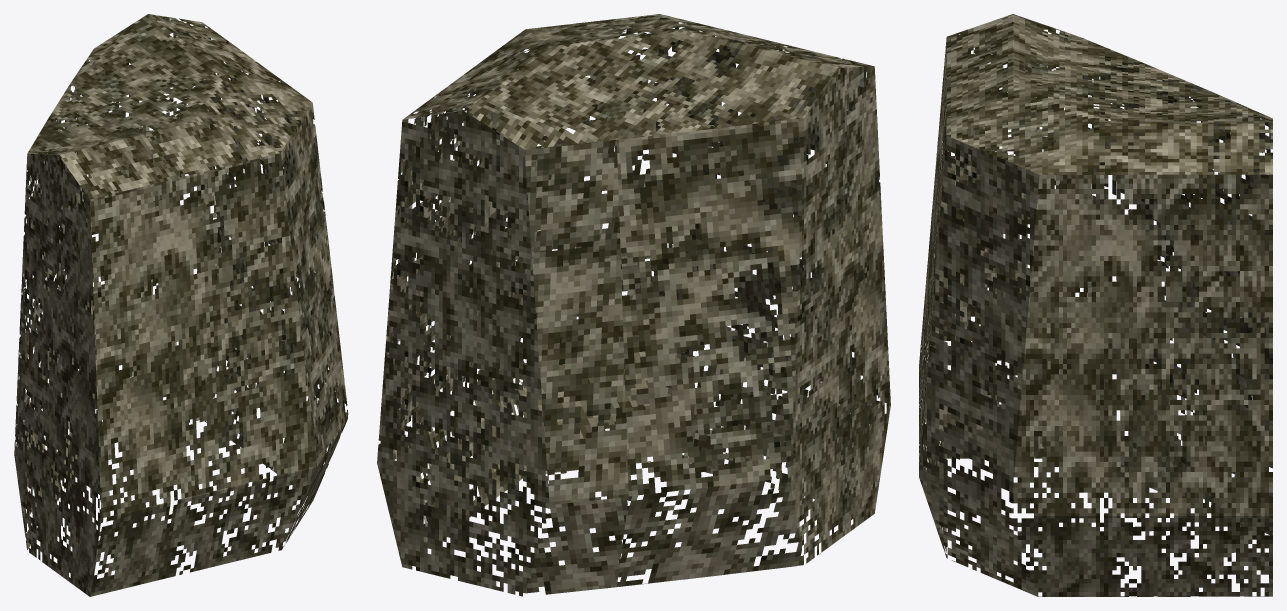
File: bush_long_round_corner_filled_dead.glb
3 renders of one model, left to right at view 1: azimuth 30°, elevation 25°; view 2: azimuth 150°, elevation 25°; view 3: azimuth 270°, elevation 25°, orthographic. The views are drawn at different scales.
Parts seen in each view (by area): view 1: bush_long_round_corner_filled_dead; view 2: bush_long_round_corner_filled_dead; view 3: bush_long_round_corner_filled_dead.
Boxes of the visible parts, x1=… form: bush_long_round_corner_filled_dead: x1=14, y1=14, x2=348, y2=596; bush_long_round_corner_filled_dead: x1=377, y1=14, x2=890, y2=596; bush_long_round_corner_filled_dead: x1=919, y1=14, x2=1272, y2=596.
Bounding box in the file's own units: 1.36 × 1.88 × 1.35.
Materials: 1 (1 with a texture image).
